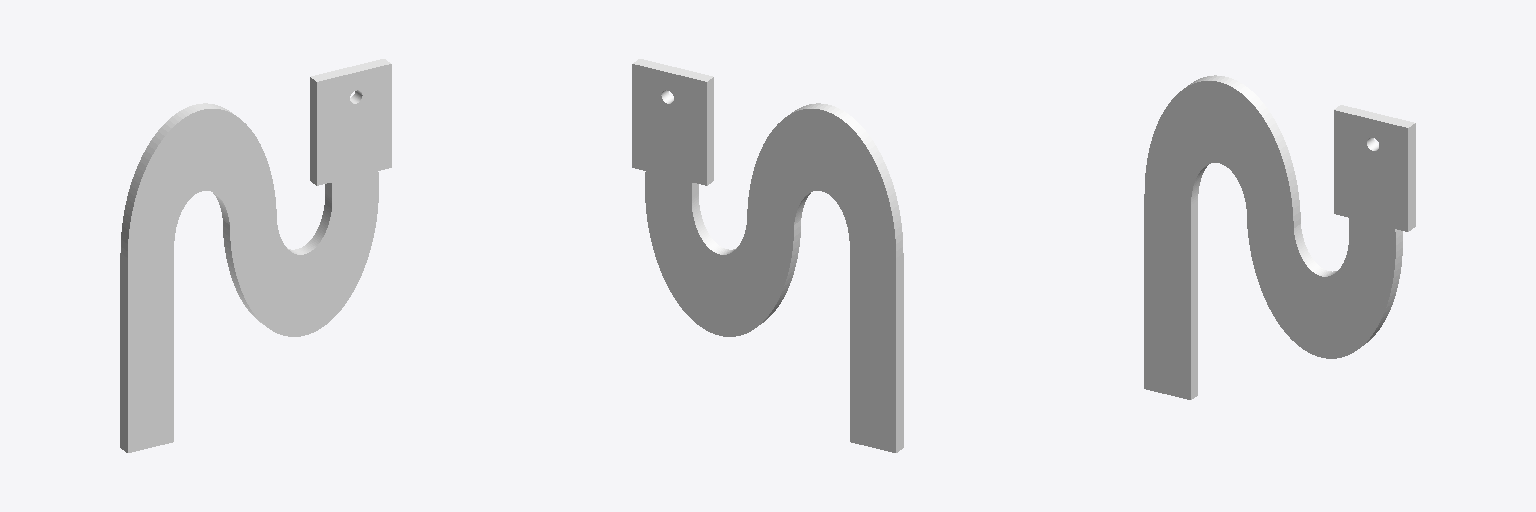
The model's file is Hole2.obj.
3 views of the same model, side by side, from view 1: azimuth 30°, elevation 25°; view 2: azimuth 150°, elevation 25°; view 3: azimuth 330°, elevation 25° (orthographic).
Visible parts, largest first — view 1: Object.2, Object.3, Object.4, Object.1; view 2: Object.2, Object.3, Object.4, Object.1; view 3: Object.2, Object.3, Object.4, Object.1.
Part boxes in pixels (left/top/right/bottom): Object.2: left=121, top=103, right=276, bottom=366; Object.3: left=223, top=171, right=378, bottom=336; Object.4: left=310, top=59, right=391, bottom=185; Object.1: left=120, top=248, right=173, bottom=452; Object.2: left=747, top=103, right=902, bottom=366; Object.3: left=645, top=171, right=800, bottom=336; Object.4: left=632, top=59, right=713, bottom=185; Object.1: left=850, top=253, right=903, bottom=452; Object.2: left=1145, top=75, right=1300, bottom=325; Object.3: left=1247, top=218, right=1402, bottom=358; Object.4: left=1334, top=105, right=1415, bottom=231; Object.1: left=1144, top=194, right=1197, bottom=399.
Size of the model in its own units: 212 by 250 by 10.